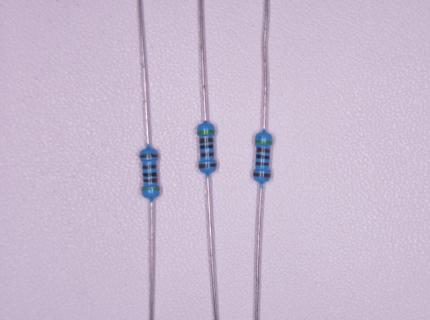Black band: (256, 154, 270, 160), (200, 144, 213, 150), (142, 173, 157, 177)
Brown band: (199, 163, 217, 169), (253, 172, 271, 178), (200, 152, 214, 158), (139, 154, 159, 158), (142, 164, 157, 169), (200, 138, 214, 143), (256, 148, 270, 153), (144, 178, 157, 183), (256, 162, 269, 166)
Green band: (255, 139, 273, 145), (197, 130, 215, 135), (141, 187, 160, 191)
